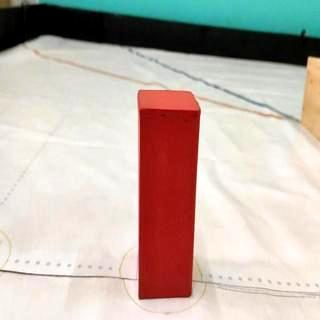redbox: (137, 87, 202, 300)
